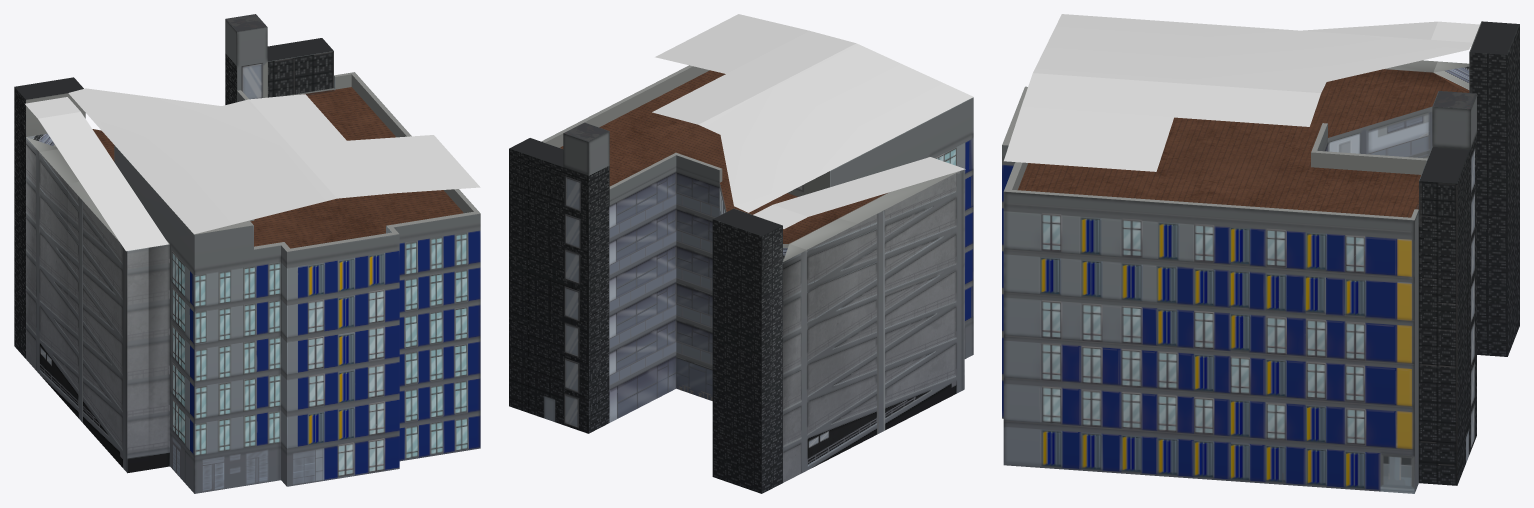
Rendered from BLOQUE6_LOD2.fbx.
The picture shows the model from 3 angles, left to right: view 1: azimuth 30°, elevation 25°; view 2: azimuth 150°, elevation 25°; view 3: azimuth 270°, elevation 25°; orthographic projection. The views are drawn at different scales.
Parts seen in each view (by area): view 1: Plane001, Plane002.002, Plane.015; view 2: Plane001, Plane002.002, Plane.015; view 3: Plane001, Plane002.002, Plane.015.
Part boxes in pixels (box(x1,y1,x2,y2)): Plane001: box(14, 14, 480, 493); Plane002.002: box(68, 88, 480, 234); Plane.015: box(25, 97, 168, 251); Plane001: box(509, 65, 973, 493); Plane002.002: box(652, 14, 973, 212); Plane.015: box(753, 157, 965, 228); Plane001: box(1002, 21, 1519, 493); Plane002.002: box(1004, 14, 1472, 171); Plane.015: box(1303, 21, 1479, 46).
Size of the model in its own units: 3386 by 2776 by 3808.
